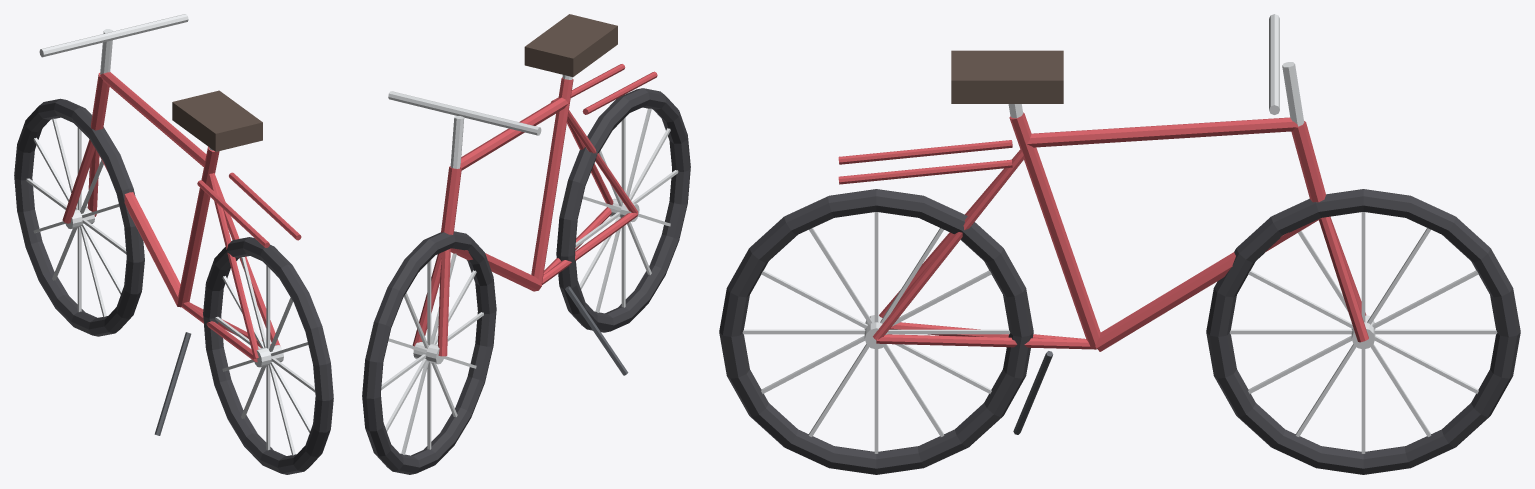
The model's file is Prop_Cycle_Red.glb.
3 renders of one model, left to right at view 1: azimuth 30°, elevation 25°; view 2: azimuth 150°, elevation 25°; view 3: azimuth 270°, elevation 25°, orthographic. The views are drawn at different scales.
Visible parts, largest first — view 1: RearW_Tire, FrontW_Tire, RearW_Rim, Saddle, FrontW_Rim, Tube0, Tube2, Tube1, Bar, Tube7, Tube6, Tube9 (+7 smaller); view 2: FrontW_Tire, RearW_Tire, Saddle, FrontW_Rim, RearW_Rim, Tube0, Bar, Tube2, Tube9, Tube1, Tube5, Tube3 (+8 smaller); view 3: RearW_Tire, FrontW_Tire, RearW_Rim, FrontW_Rim, Saddle, Tube2, Tube0, Tube1, Tube6, Tube4, Tube8, Tube10 (+4 smaller).
Boxes of the visible parts, x1,y1,x2,y2 form: RearW_Tire: [203, 237, 333, 474]; FrontW_Tire: [14, 98, 144, 336]; RearW_Rim: [215, 257, 315, 455]; Saddle: [172, 90, 262, 151]; FrontW_Rim: [26, 118, 126, 317]; Tube0: [178, 146, 219, 306]; Tube2: [100, 72, 206, 166]; Tube1: [100, 156, 180, 307]; Bar: [39, 14, 188, 57]; Tube7: [208, 173, 258, 358]; Tube6: [210, 173, 280, 345]; Tube9: [62, 139, 95, 223]; FrontW_Tire: [362, 231, 496, 474]; RearW_Tire: [556, 88, 690, 332]; Saddle: [524, 14, 617, 76]; FrontW_Rim: [381, 253, 483, 454]; RearW_Rim: [575, 108, 678, 312]; Tube0: [531, 77, 573, 283]; Bar: [388, 91, 541, 135]; Tube2: [460, 97, 568, 170]; Tube9: [438, 248, 450, 356]; Tube1: [450, 248, 541, 291]; Tube5: [542, 212, 638, 284]; Tube3: [441, 166, 461, 234]; RearW_Tire: [719, 189, 1033, 474]; FrontW_Tire: [1206, 189, 1520, 474]; RearW_Rim: [742, 212, 1010, 453]; FrontW_Rim: [1229, 212, 1497, 453]; Saddle: [951, 50, 1063, 103]; Tube2: [1027, 117, 1297, 147]; Tube0: [1009, 112, 1100, 348]; Tube1: [1095, 218, 1320, 351]; Tube6: [873, 150, 1024, 340]; Tube4: [876, 334, 1096, 349]; Tube8: [1319, 216, 1368, 342]; Tube10: [838, 159, 1012, 184].
Size of the model in its own units: 0.46 by 0.978 by 1.71.
